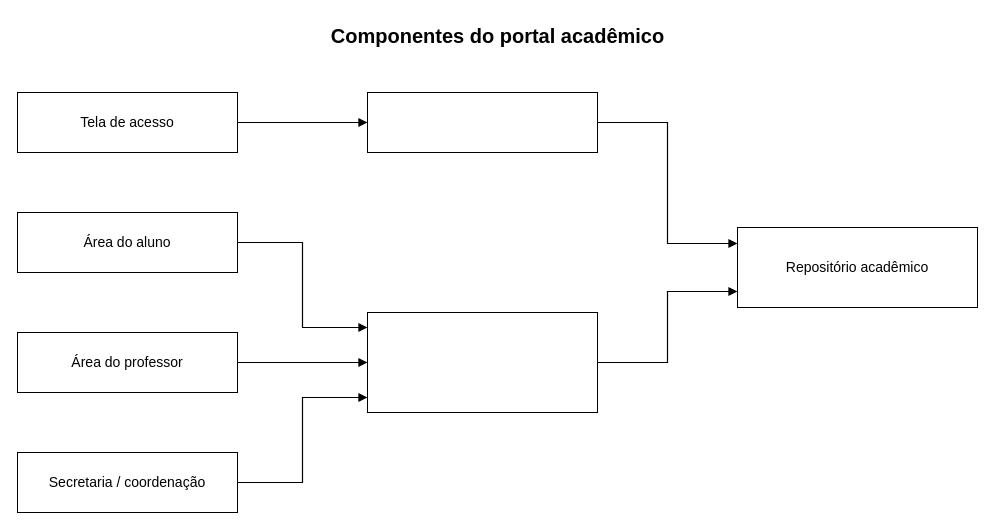
This 995x530 diagram has some shape labels left out. The centre of each missing label's shape, as x and y in pixels:
Autenticação: the point at 482,122
Serviços acadêmicos: the point at 482,362
